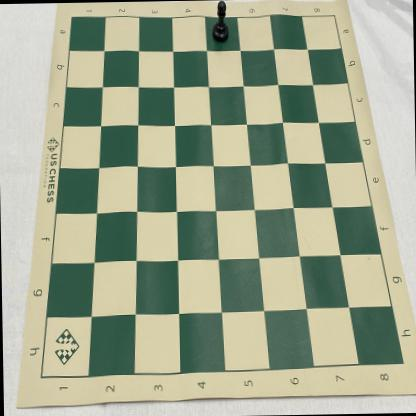pawn: (211, 0, 230, 44)
